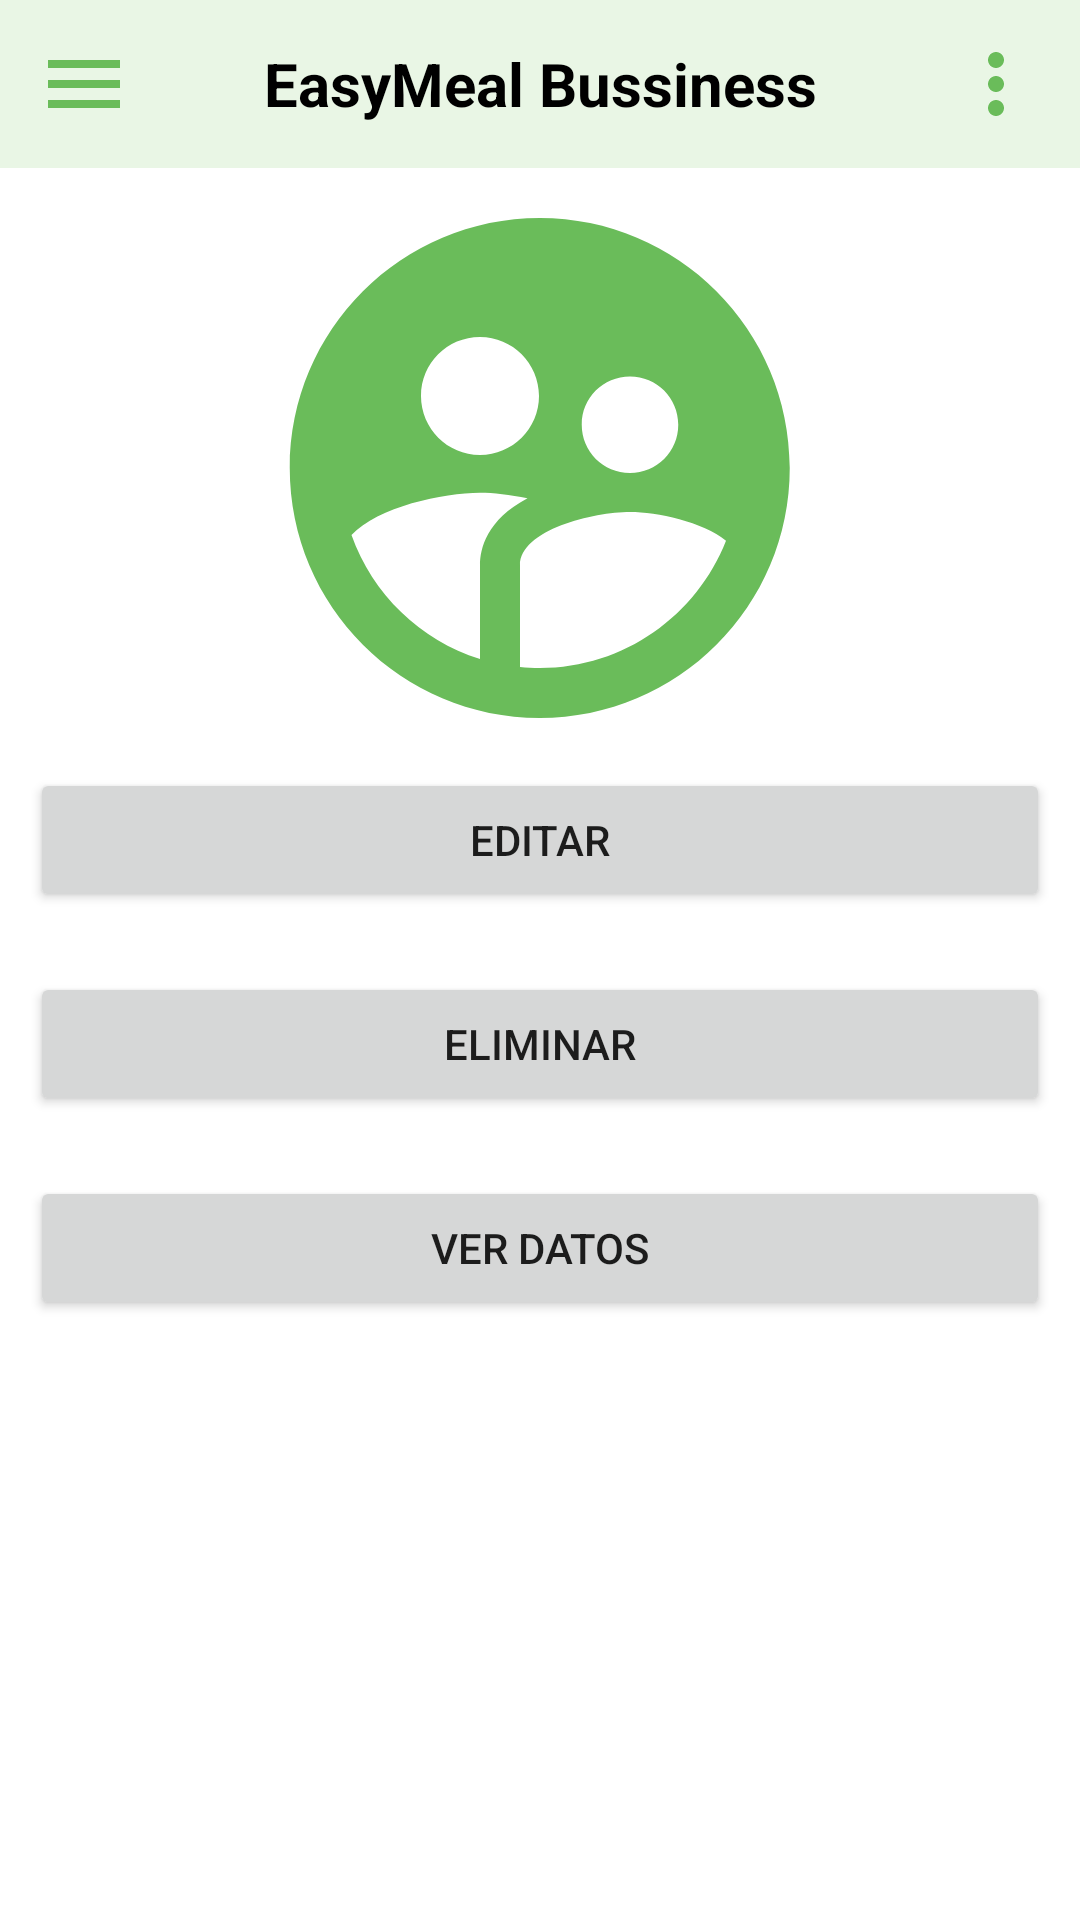

Locate icon controls on the screen. Image size 1080px×1920px, boxes as (x1, y1, x2, y2).
menu: (48, 60, 120, 108)
more: (988, 52, 1004, 116)
